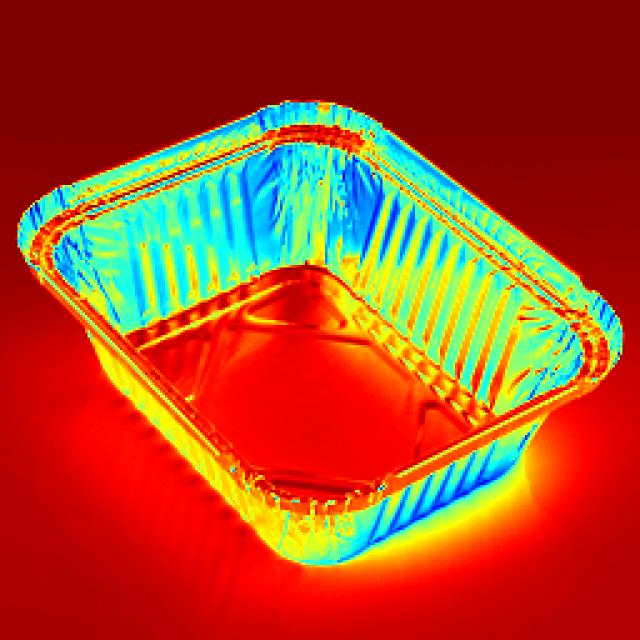Aluminium Food Cans: (19, 94, 610, 562)
